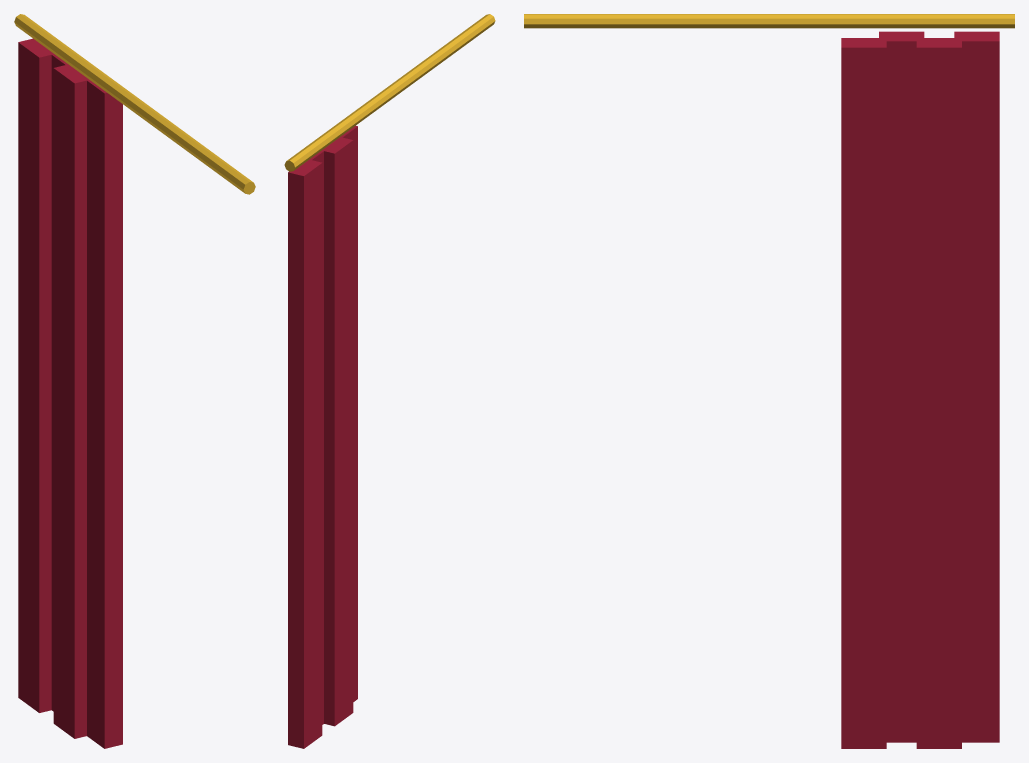
The model's file is fitting_curtain.glb.
The picture shows the model from 3 angles, left to right: view 1: azimuth 30°, elevation 25°; view 2: azimuth 150°, elevation 25°; view 3: azimuth 270°, elevation 25°; orthographic projection. The views are drawn at different scales.
Parts seen in each view (by area): view 1: fold_curtain_red, rod_curtain_rod; view 2: fold_curtain_red, rod_curtain_rod; view 3: fold_curtain_red, rod_curtain_rod.
Boxes of the visible parts, x1=… form: fold_curtain_red: x1=18, y1=38, x2=122, y2=748; rod_curtain_rod: x1=14, y1=14, x2=255, y2=194; fold_curtain_red: x1=288, y1=125, x2=357, y2=748; rod_curtain_rod: x1=284, y1=14, x2=495, y2=171; fold_curtain_red: x1=841, y1=31, x2=999, y2=748; rod_curtain_rod: x1=524, y1=14, x2=1014, y2=28.
Size of the model in its own units: 0.1 by 2.12 by 1.3.
